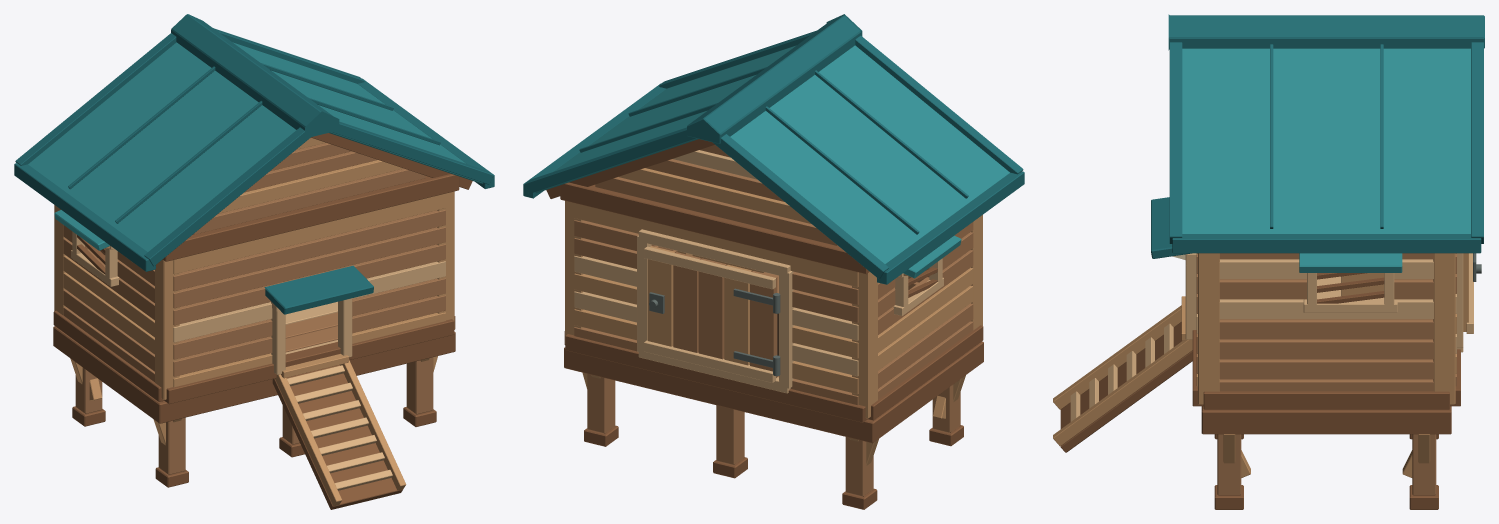
3 views of the same model, side by side, from view 1: azimuth 30°, elevation 25°; view 2: azimuth 150°, elevation 25°; view 3: azimuth 270°, elevation 25° (orthographic). The views are drawn at different scales.
Parts seen in each view (by area): view 1: Thick teal pitched roof panel, Continuous teal ridge cap, Front eave plate, Continuous ramp backing board, Thick teal pitched roof panel.001, Front horizontal siding board.009, Front horizontal siding board.010, Front wall sill, Front floor bearer, Front horizontal siding board.011, Gable horizontal cedar board, Front horizontal siding board.008 (+46 smaller); view 2: Thick teal pitched roof panel, Continuous teal ridge cap, Rear eave plate, Rear floor bearer, Thick teal pitched roof panel.001, Rear wall sill, Rear horizontal siding board.014, Gable horizontal cedar board.006, Rake edge roof trim.001, Teal eave fascia, Structural corner post.001, Gable horizontal cedar board.007 (+50 smaller); view 3: Thick teal pitched roof panel.001, Continuous teal ridge cap, Teal eave fascia.001, Right floor bearer, Right wall sill, Side horizontal siding board.012, Side horizontal siding board.013, Side horizontal siding board.014, Side horizontal siding board.015, Structural corner post.003, Structural corner post.002, Continuous ramp backing board (+25 smaller).
Boxes of the visible parts, x1,y1,x2,y2 form: Thick teal pitched roof panel: [28, 42, 296, 251]; Continuous teal ridge cap: [171, 14, 339, 138]; Front eave plate: [163, 174, 459, 261]; Continuous ramp backing board: [272, 365, 402, 509]; Thick teal pitched roof panel.001: [233, 42, 483, 183]; Front horizontal siding board.009: [173, 227, 445, 308]; Front horizontal siding board.010: [173, 210, 445, 291]; Front wall sill: [164, 319, 454, 404]; Front floor bearer: [150, 331, 455, 423]; Front horizontal siding board.011: [173, 193, 445, 274]; Gable horizontal cedar board: [193, 168, 425, 234]; Front horizontal siding board.008: [173, 244, 445, 325]; Thick teal pitched roof panel: [730, 45, 1009, 263]; Continuous teal ridge cap: [687, 14, 862, 143]; Rear eave plate: [560, 182, 869, 274]; Rear floor bearer: [564, 347, 882, 443]; Thick teal pitched roof panel.001: [535, 45, 796, 193]; Rear wall sill: [565, 334, 867, 422]; Rear horizontal siding board.014: [574, 203, 858, 287]; Gable horizontal cedar board.006: [595, 177, 837, 245]; Rake edge roof trim.001: [713, 134, 888, 278]; Teal eave fascia: [877, 171, 1024, 284]; Structural corner post.001: [852, 272, 877, 418]; Gable horizontal cedar board.007: [619, 168, 811, 224]; Thick teal pitched roof panel.001: [1182, 48, 1470, 233]; Continuous teal ridge cap: [1168, 14, 1484, 50]; Teal eave fascia.001: [1172, 234, 1481, 253]; Right floor bearer: [1210, 409, 1442, 434]; Right wall sill: [1203, 391, 1449, 409]; Side horizontal siding board.012: [1219, 359, 1433, 379]; Side horizontal siding board.013: [1219, 339, 1433, 359]; Side horizontal siding board.014: [1219, 319, 1433, 339]; Side horizontal siding board.015: [1219, 297, 1433, 319]; Structural corner post.003: [1433, 253, 1455, 404]; Structural corner post.002: [1198, 253, 1219, 404]; Continuous ramp backing board: [1060, 322, 1192, 452].
Bounding box in the file's own units: 2.57 × 2.52 × 2.35.
